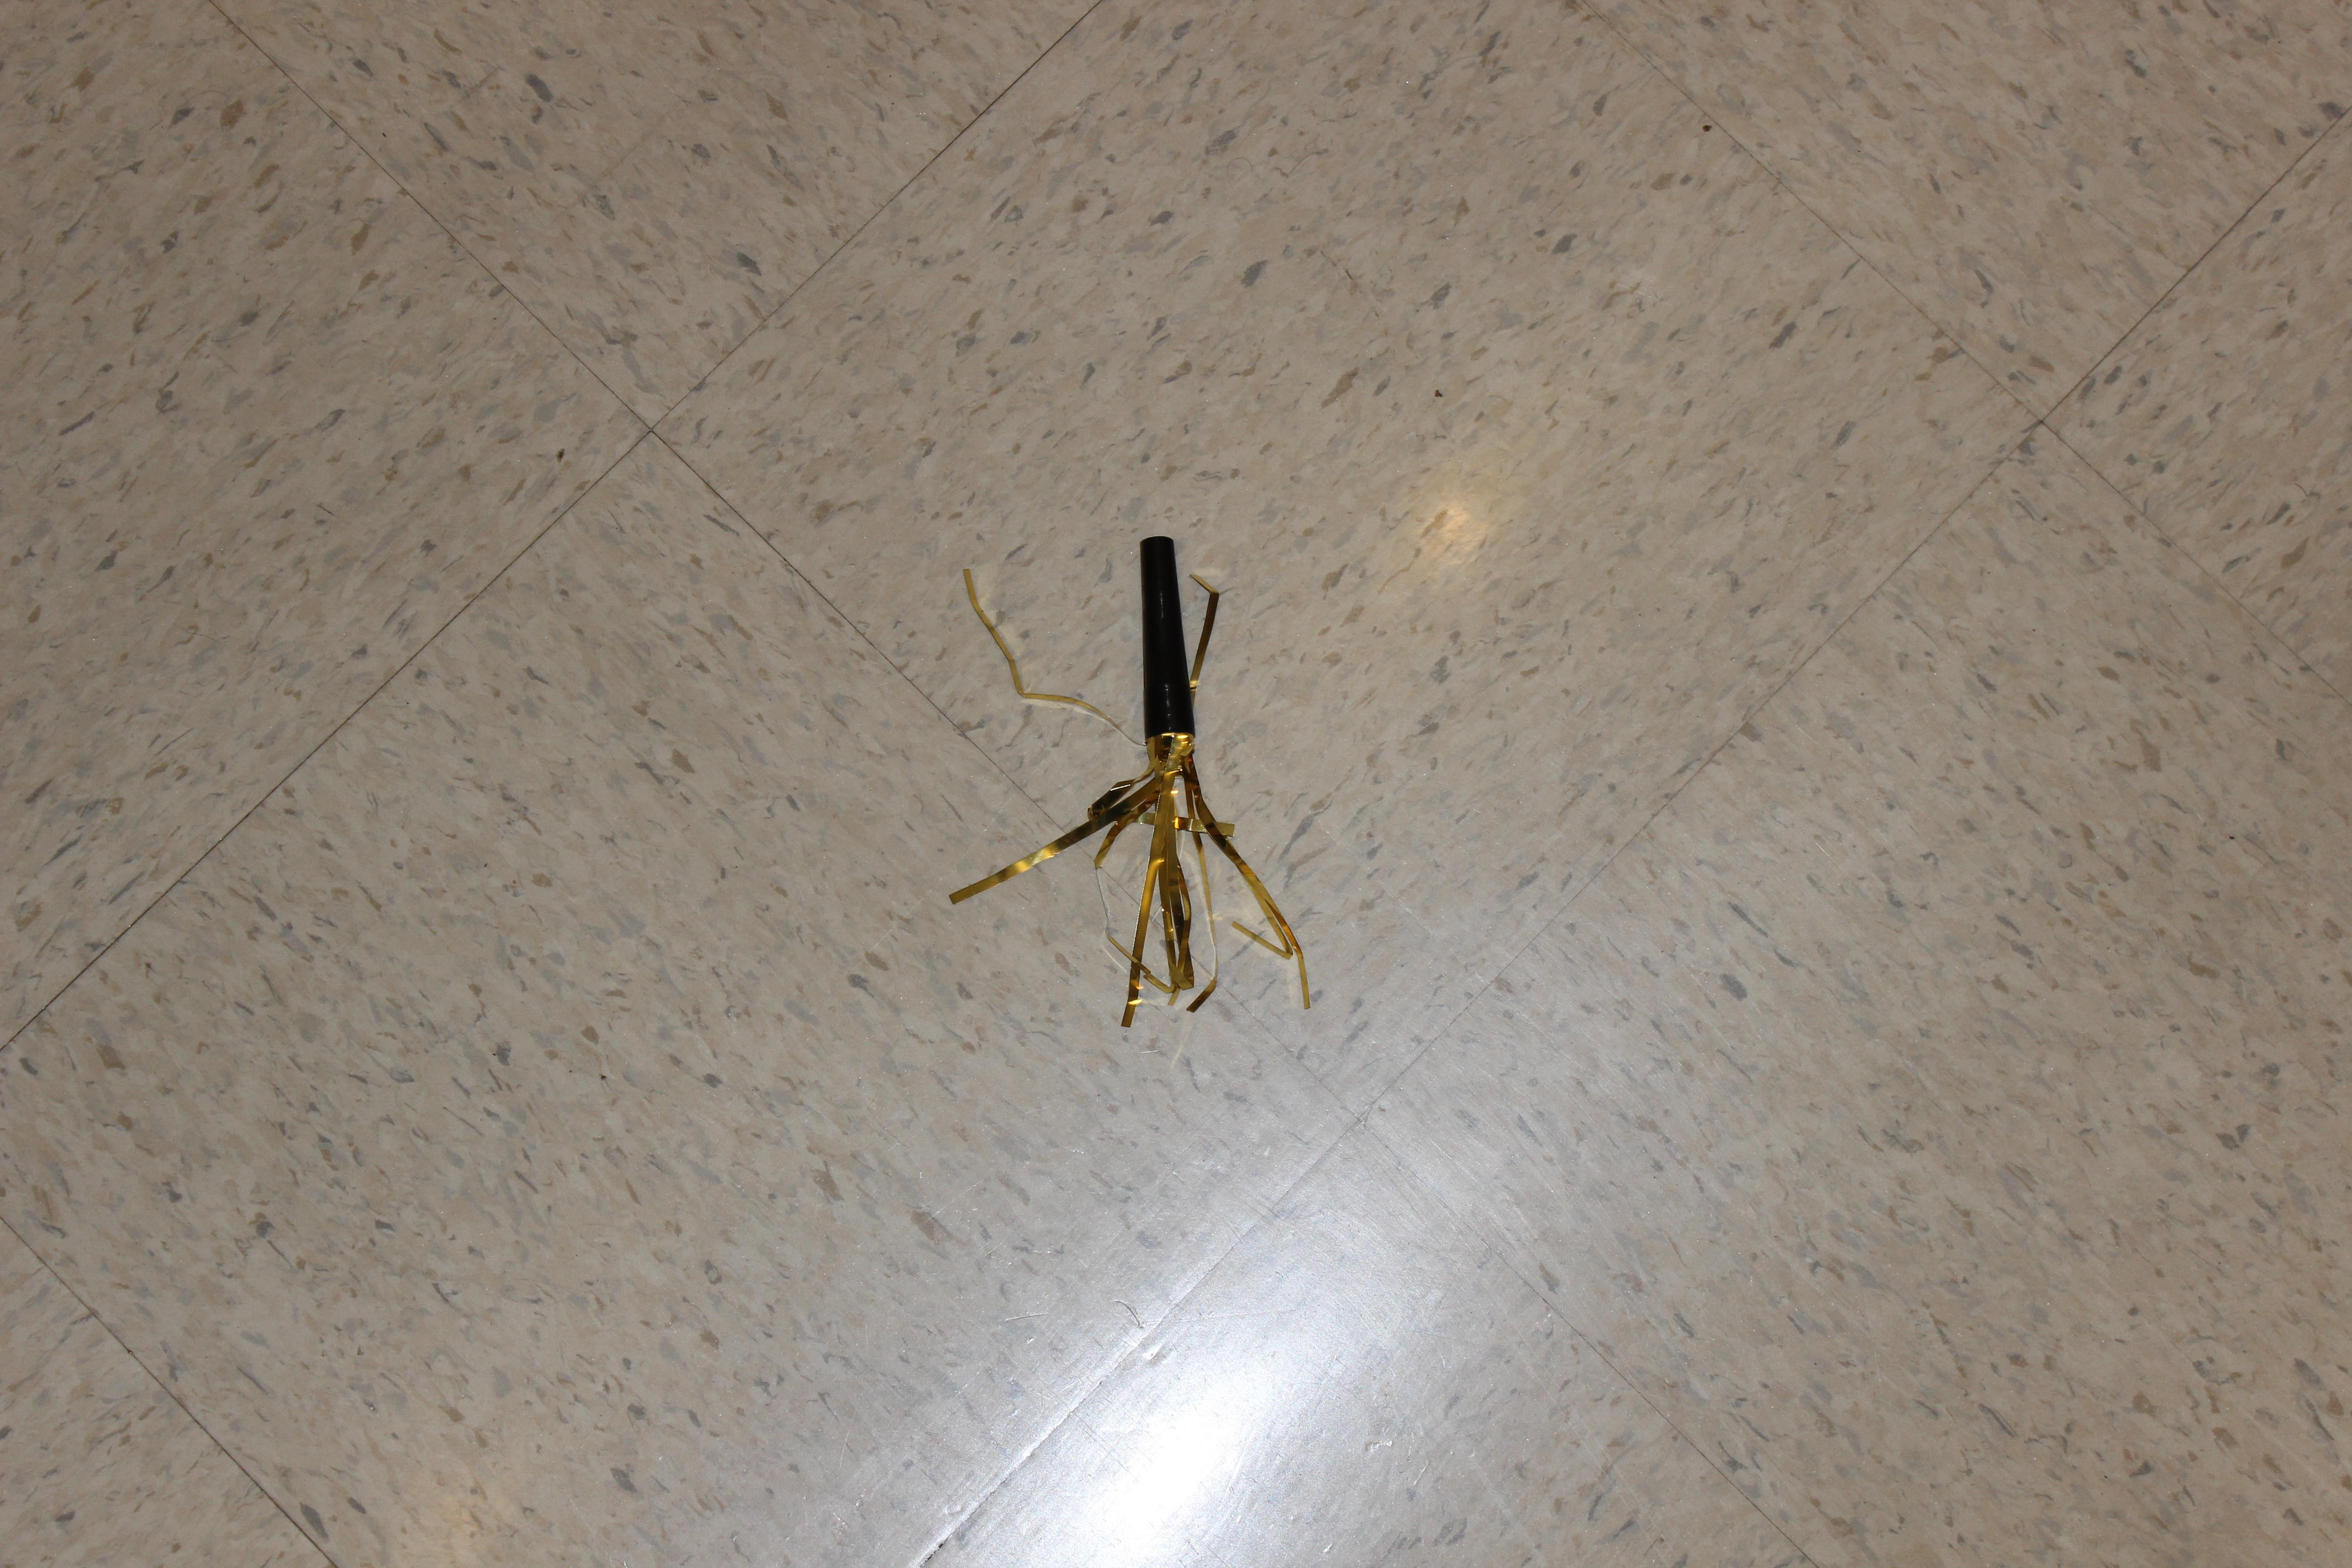partyFavor: (903, 522, 1389, 1043)
